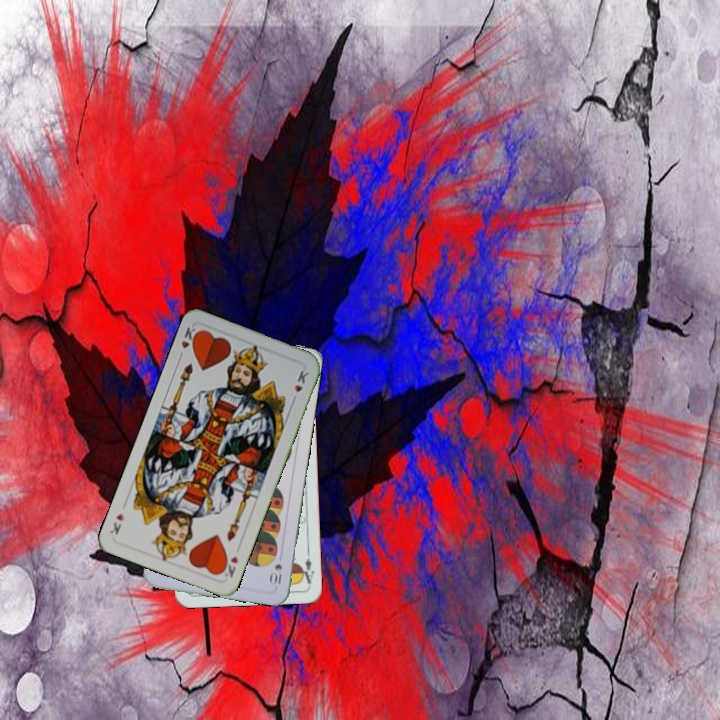EA: (297, 547, 317, 586)
HK: (175, 322, 202, 361), (217, 552, 241, 580)
S10: (267, 559, 285, 587)
